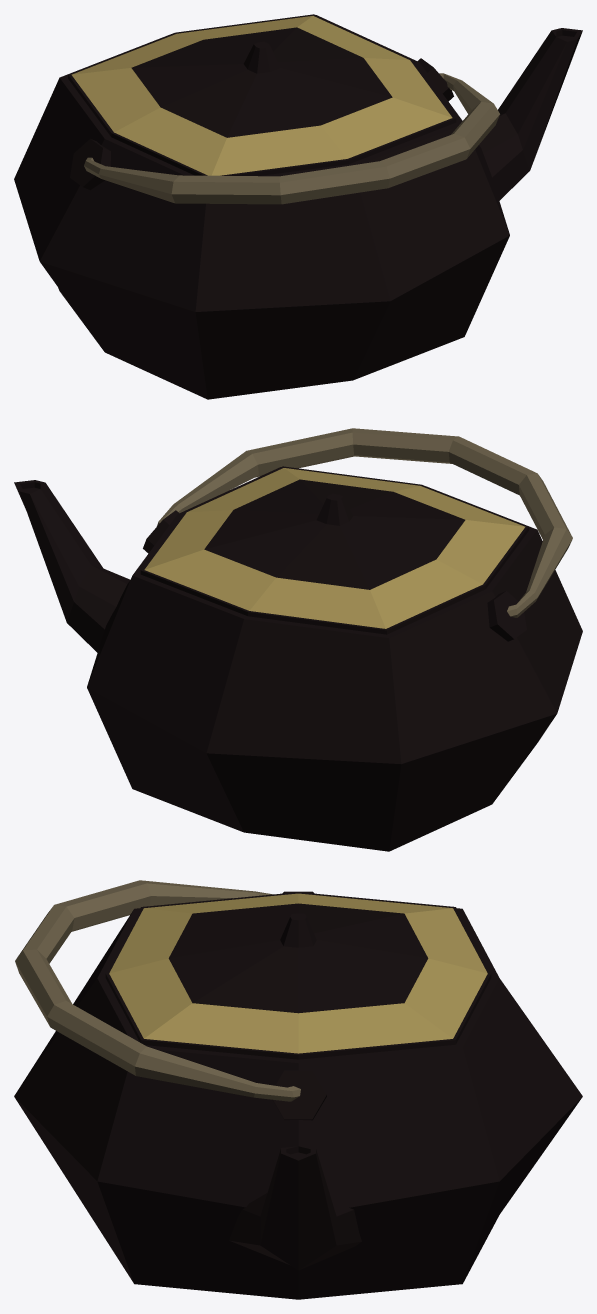
File: m_coloniusLory_TeaPot.fbx
The picture shows the model from 3 angles, top to bottom: view 1: azimuth 30°, elevation 25°; view 2: azimuth 150°, elevation 25°; view 3: azimuth 270°, elevation 25°; orthographic projection. The views are drawn at different scales.
Visible parts, largest first — view 1: m_coloniusLory_TeaPot, m_coloniusLory_TeaPot_handle; view 2: m_coloniusLory_TeaPot, m_coloniusLory_TeaPot_handle; view 3: m_coloniusLory_TeaPot, m_coloniusLory_TeaPot_handle.
Part boxes in pixels (left/top/right/bottom): m_coloniusLory_TeaPot: left=14, top=14, right=582, bottom=399; m_coloniusLory_TeaPot_handle: left=84, top=73, right=499, bottom=204; m_coloniusLory_TeaPot: left=14, top=466, right=582, bottom=851; m_coloniusLory_TeaPot_handle: left=156, top=428, right=572, bottom=617; m_coloniusLory_TeaPot: left=14, top=891, right=582, bottom=1299; m_coloniusLory_TeaPot_handle: left=15, top=880, right=300, bottom=1101.
Size of the model in its own units: 24.5 by 11.59 by 20.06.
